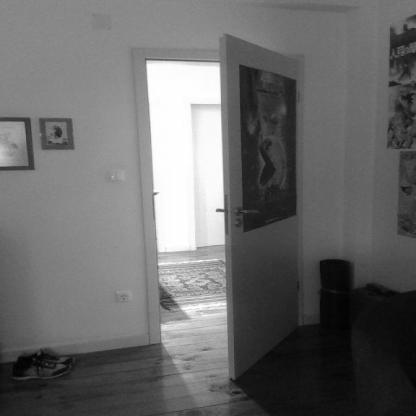door: (127, 28, 316, 382)
